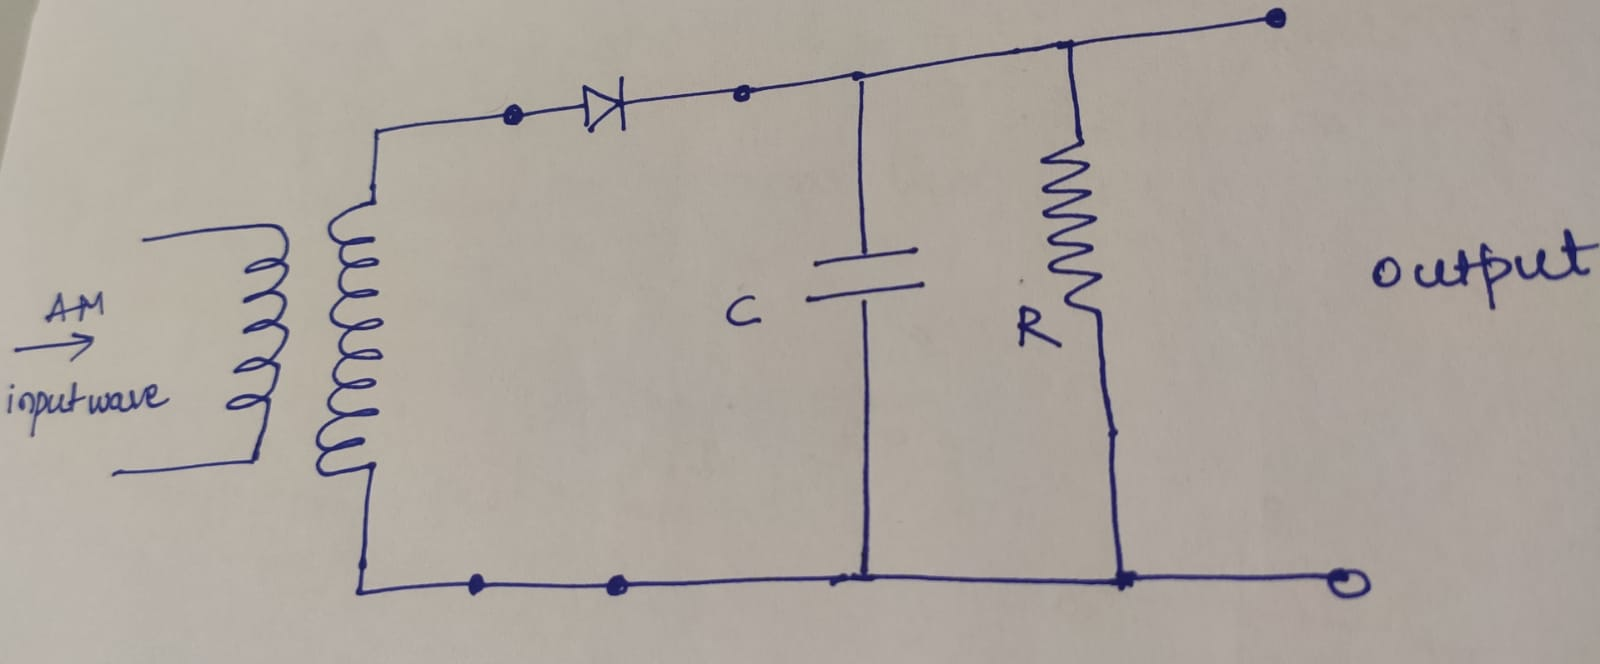capacitor.unpolarized: (803, 246, 924, 306)
diode: (574, 74, 631, 132)
junction: (490, 99, 532, 133), (722, 80, 763, 107), (1103, 563, 1143, 591), (1051, 33, 1087, 63), (840, 64, 876, 89), (849, 561, 882, 588), (604, 571, 631, 602), (349, 579, 376, 606), (465, 570, 488, 598), (367, 122, 390, 144)
resistor: (1036, 134, 1108, 320)
terminal: (1318, 567, 1371, 599), (1249, 8, 1289, 33), (104, 463, 126, 484), (135, 232, 155, 251)
text: (4, 284, 176, 441), (1370, 222, 1600, 312), (1017, 304, 1066, 350), (724, 293, 764, 327)
transformer: (223, 194, 391, 477)
